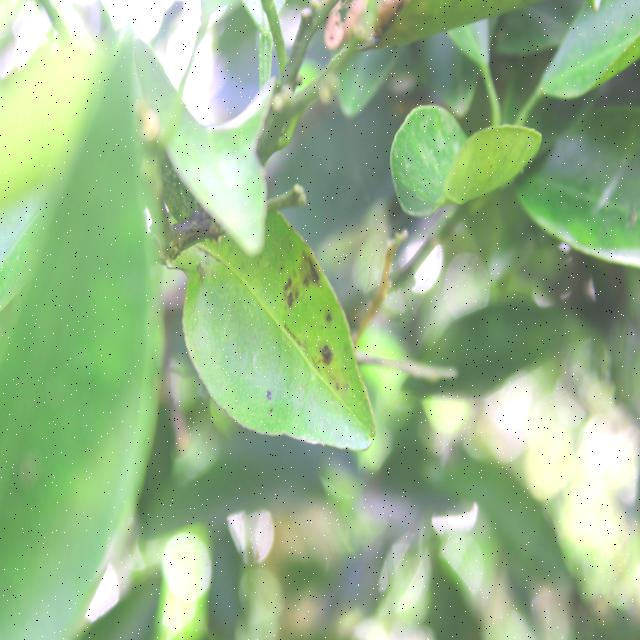melanose: (171, 190, 372, 438)
